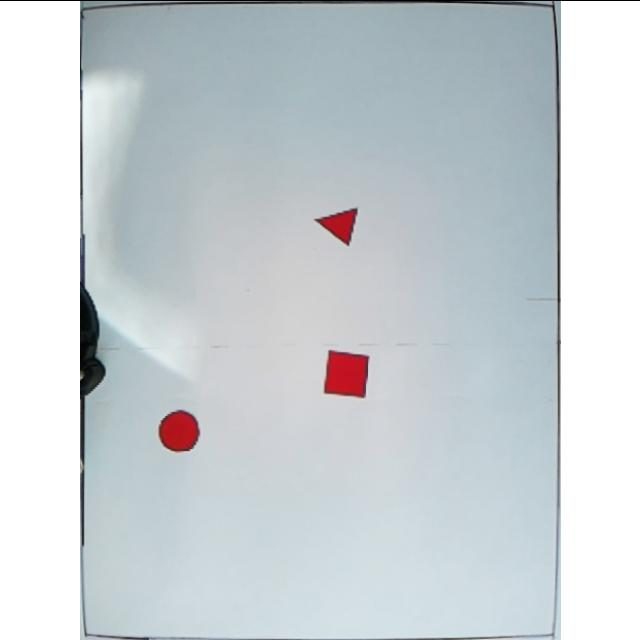redCircle: (156, 406, 202, 454)
redSquare: (321, 348, 369, 400)
redTriangle: (314, 207, 358, 247)
